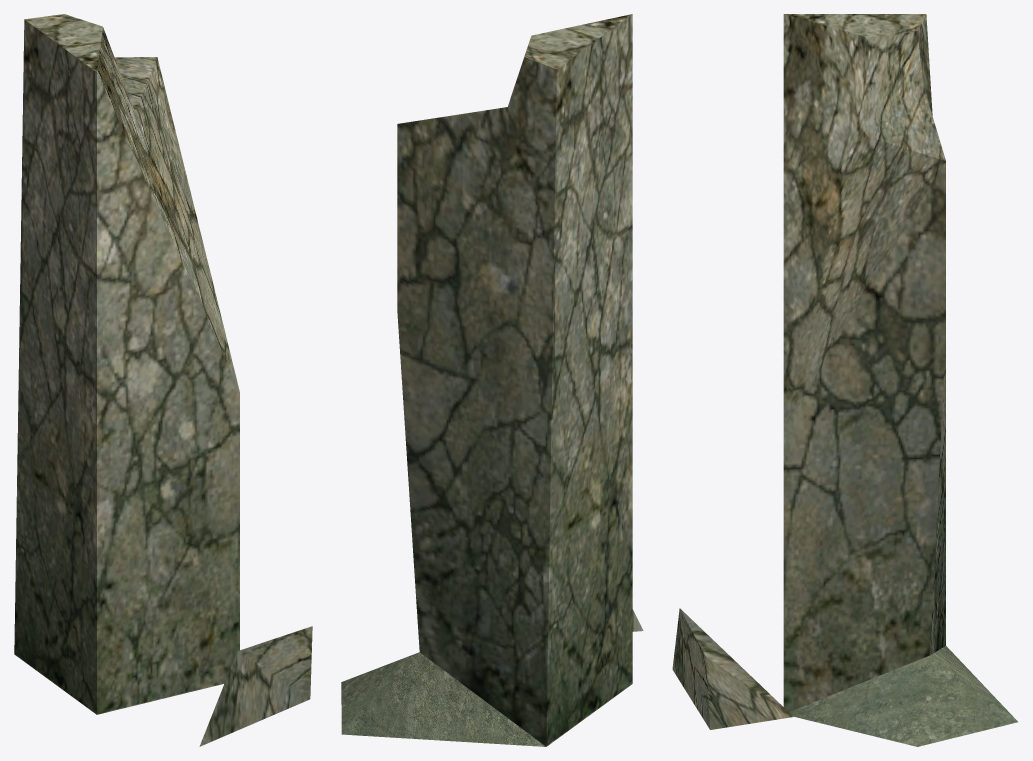
File: thm_nboo_gungan_pillar_ruined_s01_l2.fbx
3 renders of one model, left to right at view 1: azimuth 30°, elevation 25°; view 2: azimuth 150°, elevation 25°; view 3: azimuth 270°, elevation 25°, orthographic. The views are drawn at different scales.
Parts seen in each view (by area): view 1: mesh_node; view 2: mesh_node; view 3: mesh_node.
Part boxes in pixels (left/top/right/bottom): mesh_node: left=14, top=14, right=312, bottom=746; mesh_node: left=341, top=14, right=643, bottom=746; mesh_node: left=672, top=14, right=1017, bottom=746.
Bounding box in the file's own units: 1.48 × 4.3 × 2.13.
